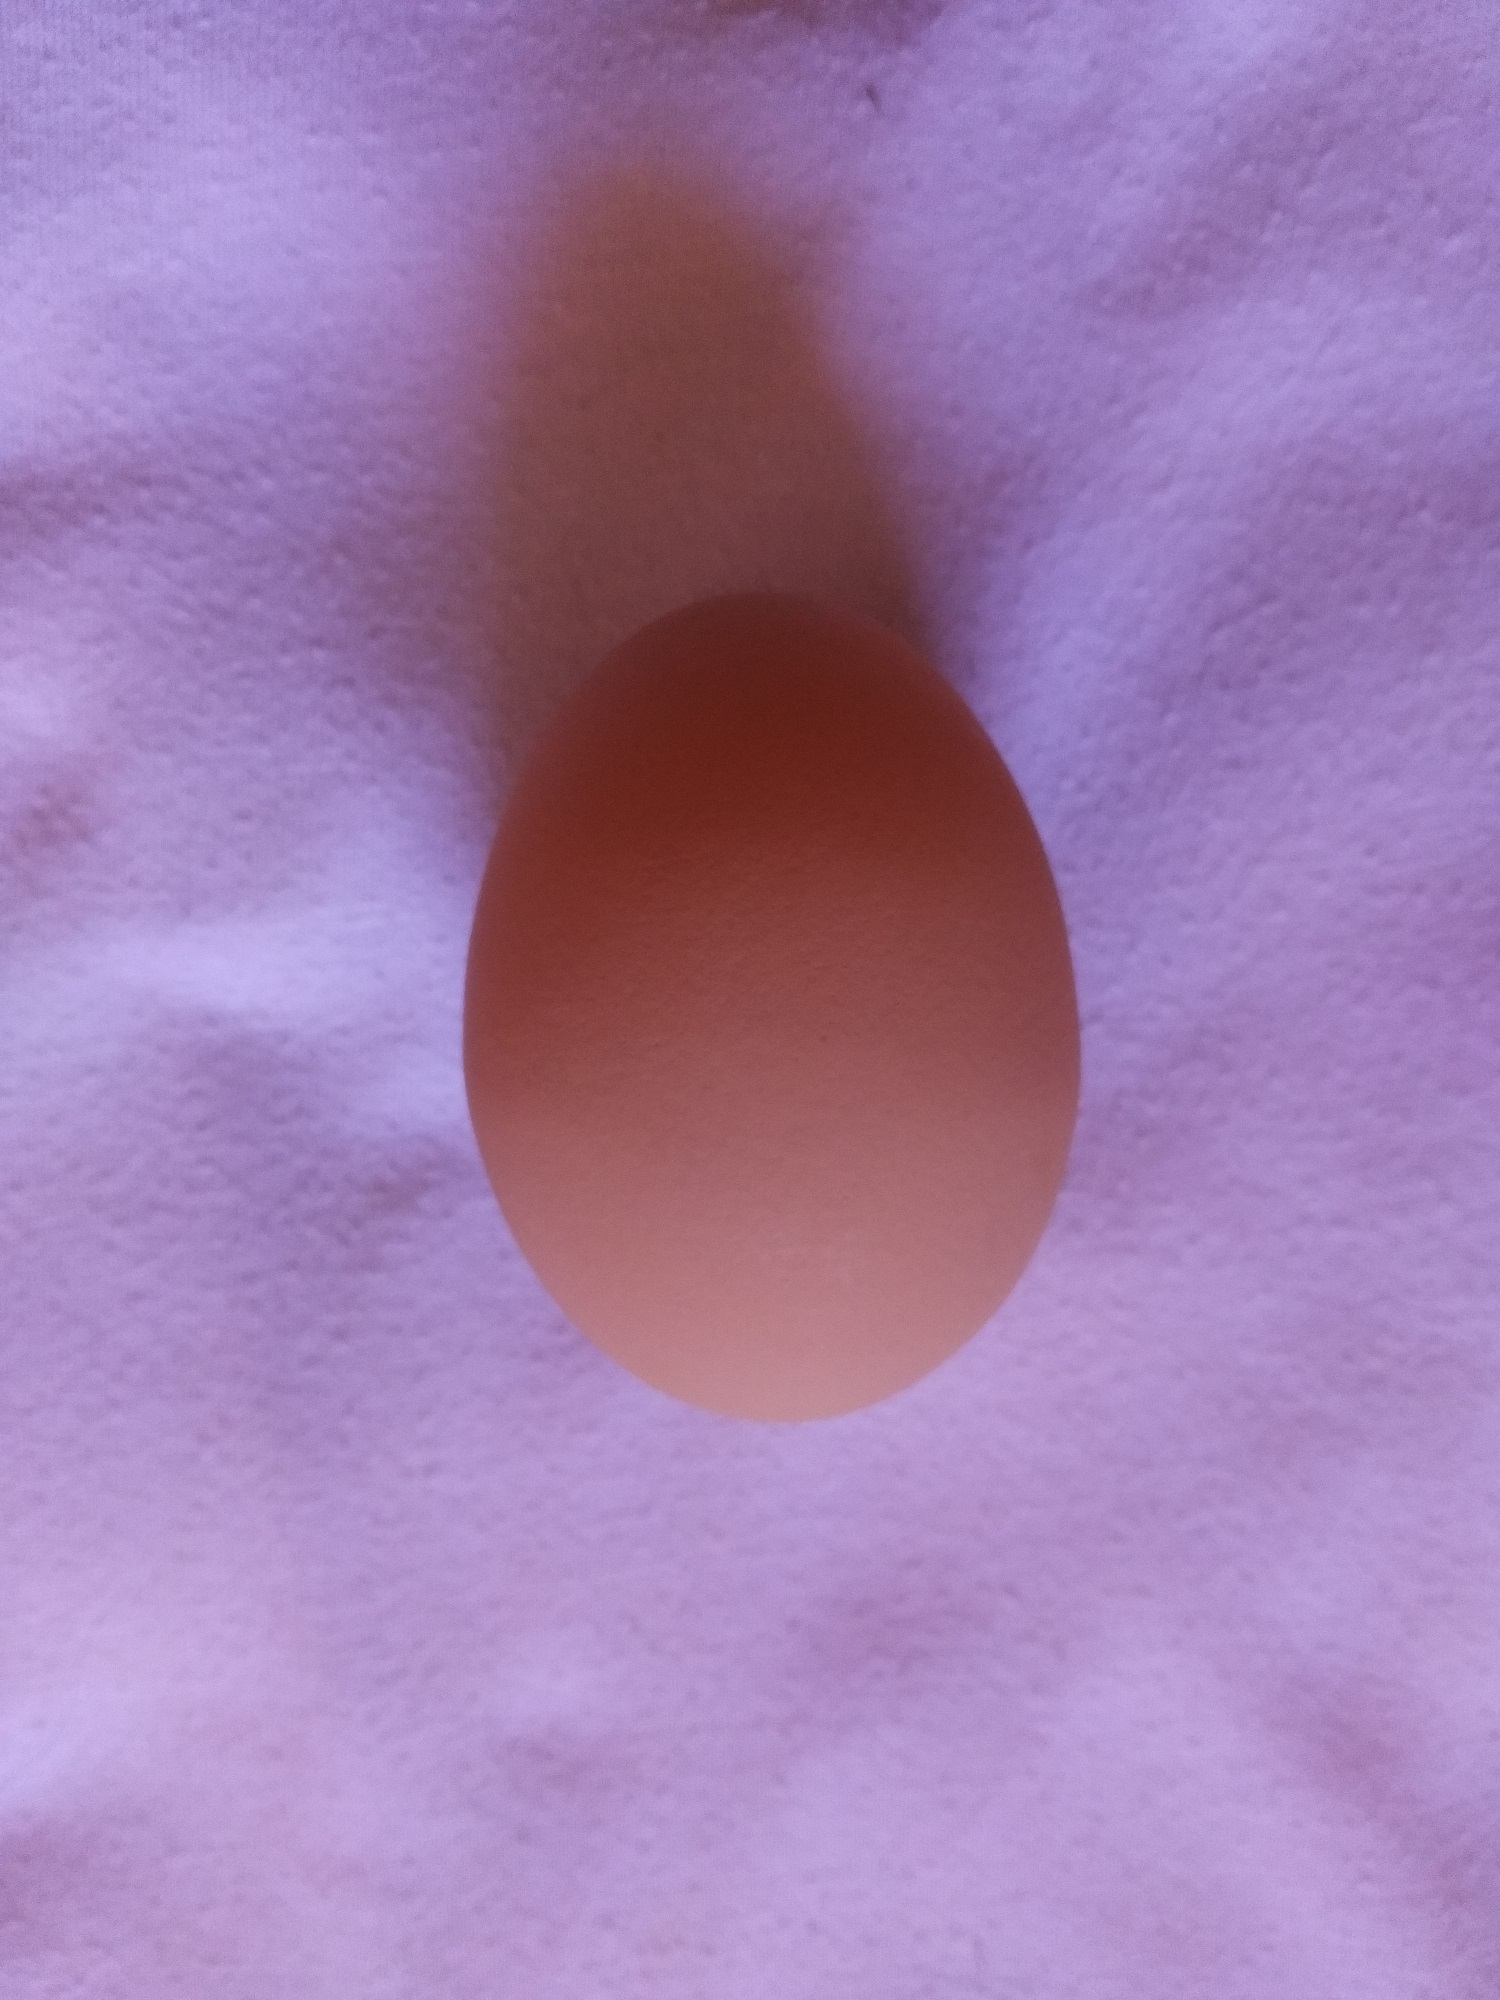Female: (459, 584, 1087, 1430)
